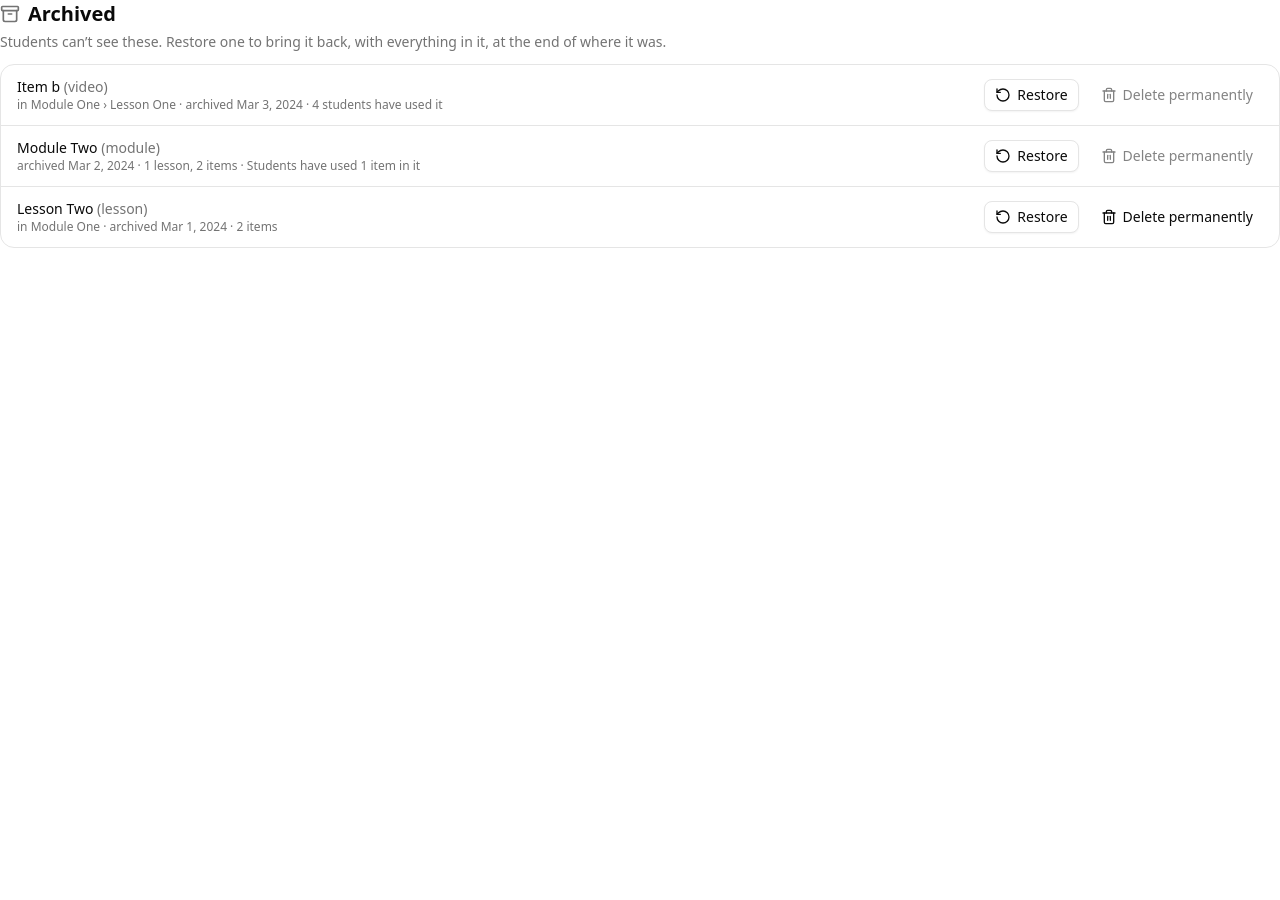
Test case: ArchivedSection › Delete permanently › shows a refusal, such as the size limit and its next step, in the dialog
This screenshot has width=1280, height=900.
Click the button with aria-label "Delete lesson Lesson Two permanently" at [1177, 217], box [1090,201,1263,233]
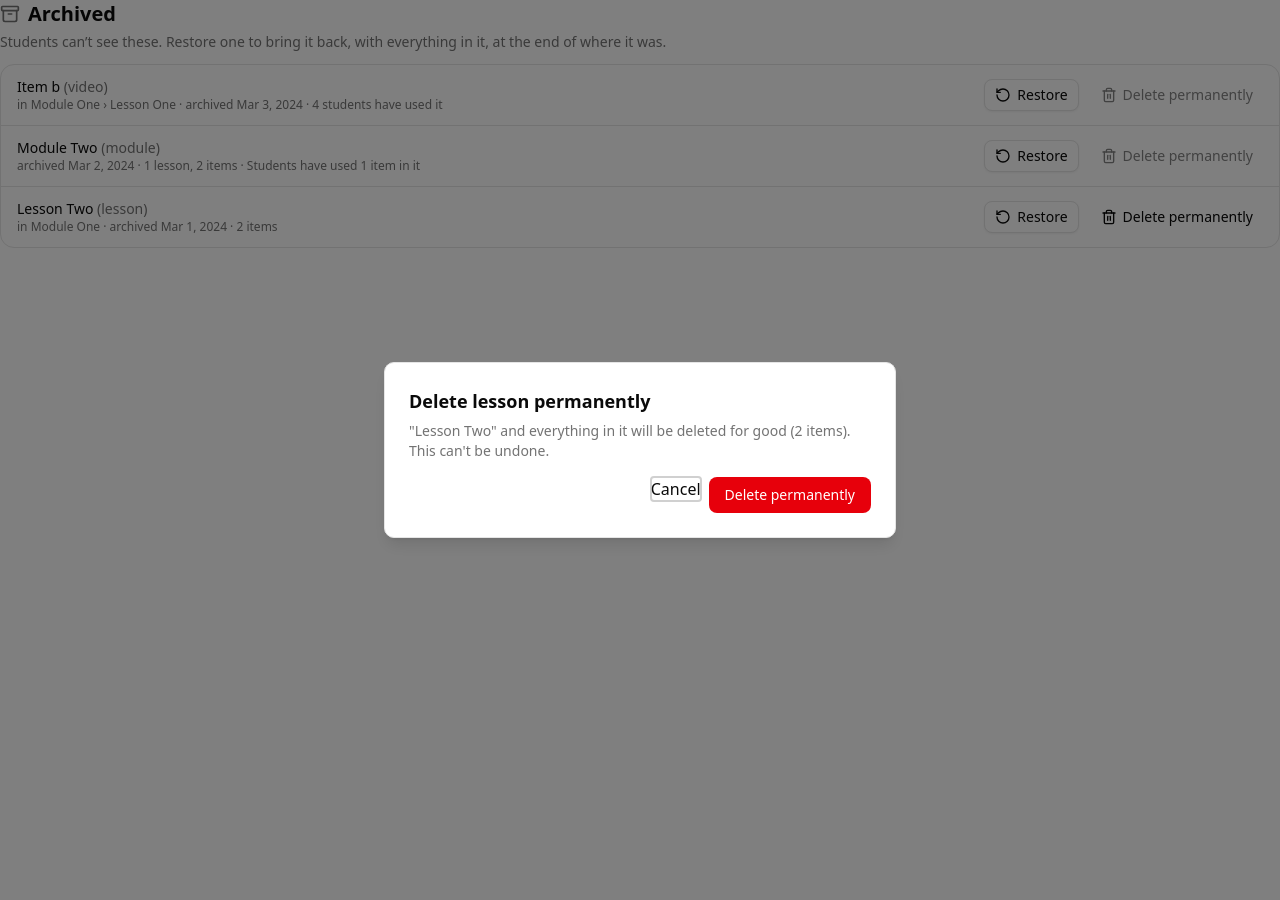
Click the button "Delete permanently" at [790, 495], box [708,477,871,513]
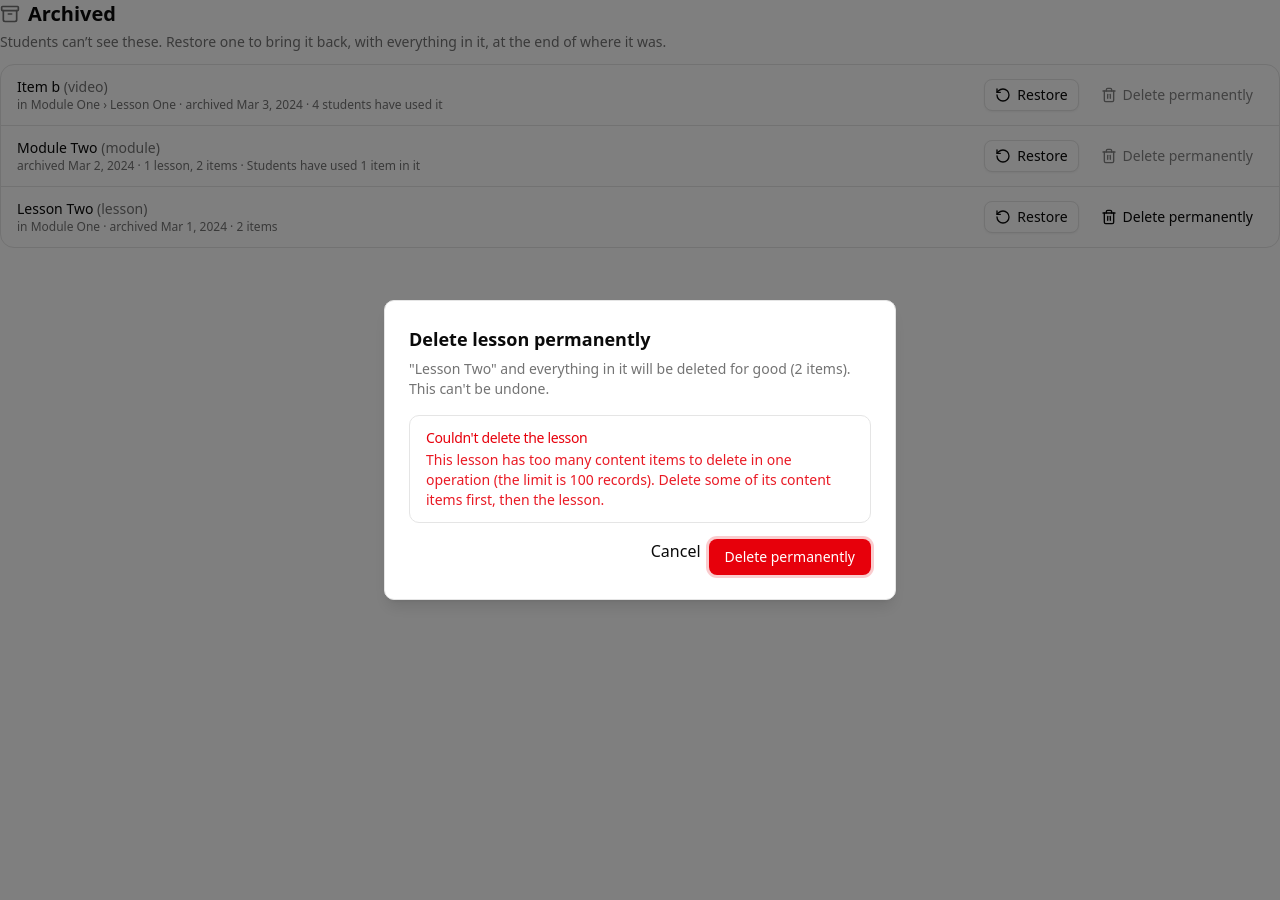
Expected: the dialog shows "Couldn't delete the lesson", [426,428,587,447]
Expected: the dialog shows "Delete some of its content items first, then the lesson.", [426,450,831,509]
